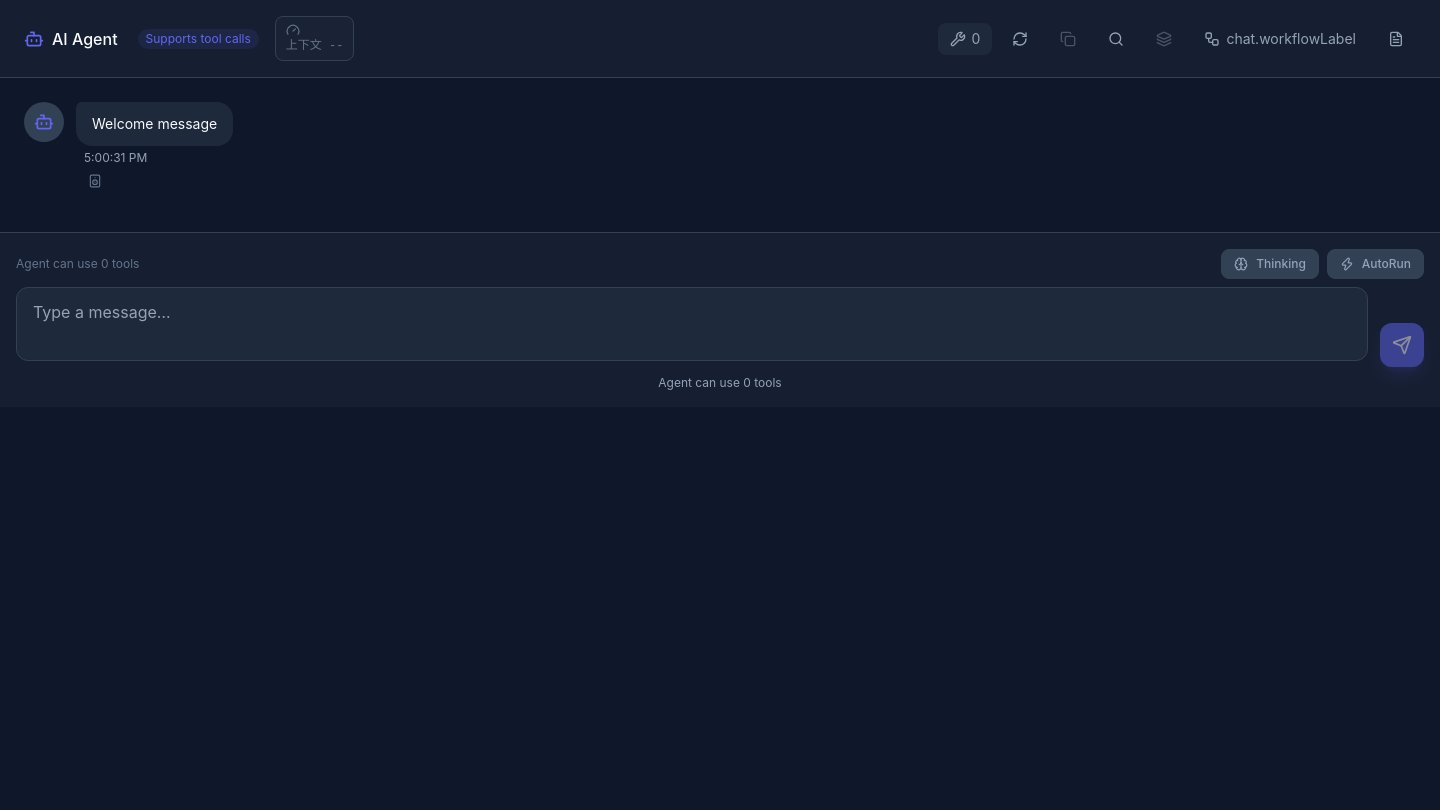
AgentChat › renders a tool_call event as a message bubble
Type "search" into the text box with placeholder "Type a message…". click: point(692, 324)
box: top-left (16, 287), bottom-right (1368, 361)
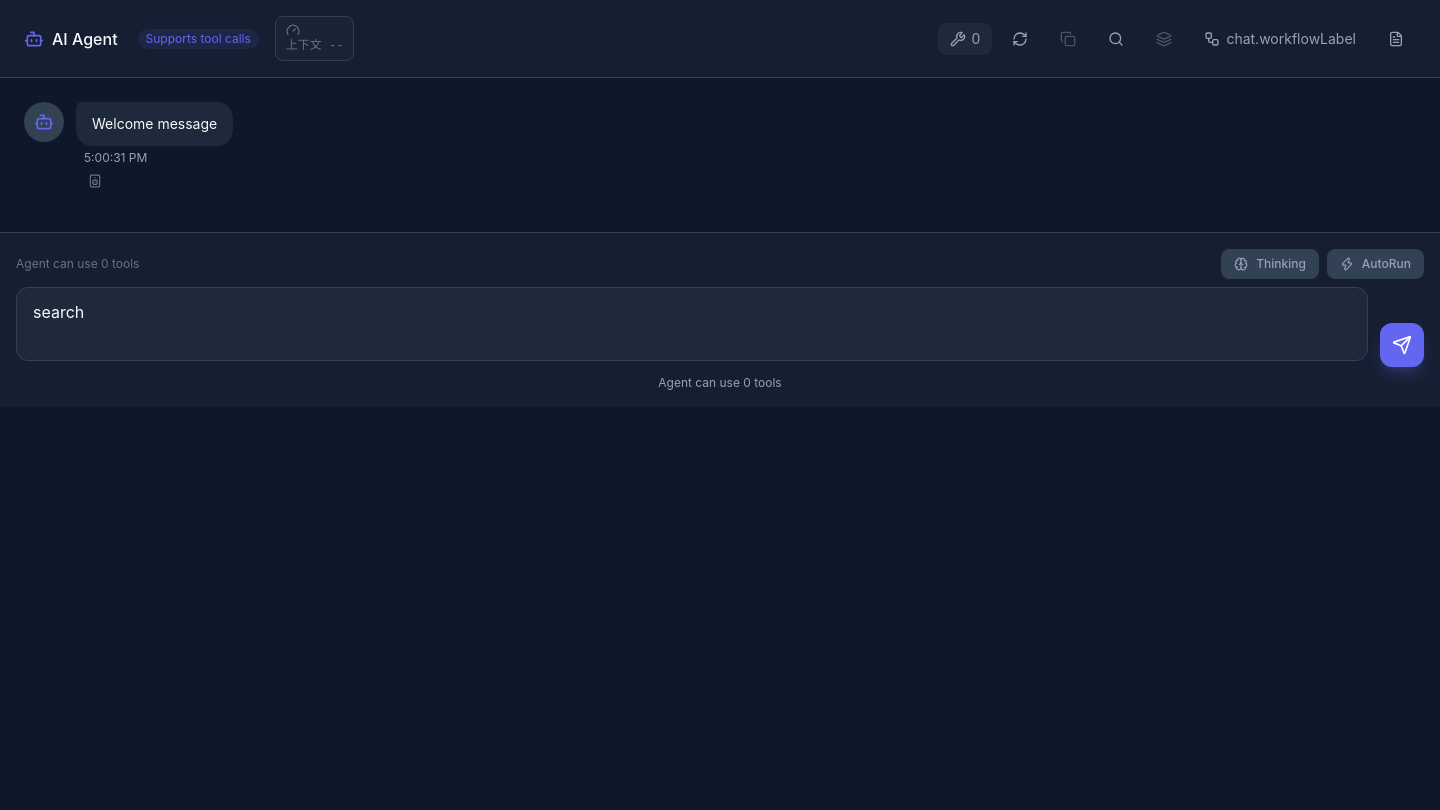
Click the button titled "Send". click: point(1402, 345)
box: top-left (1380, 323), bottom-right (1424, 367)
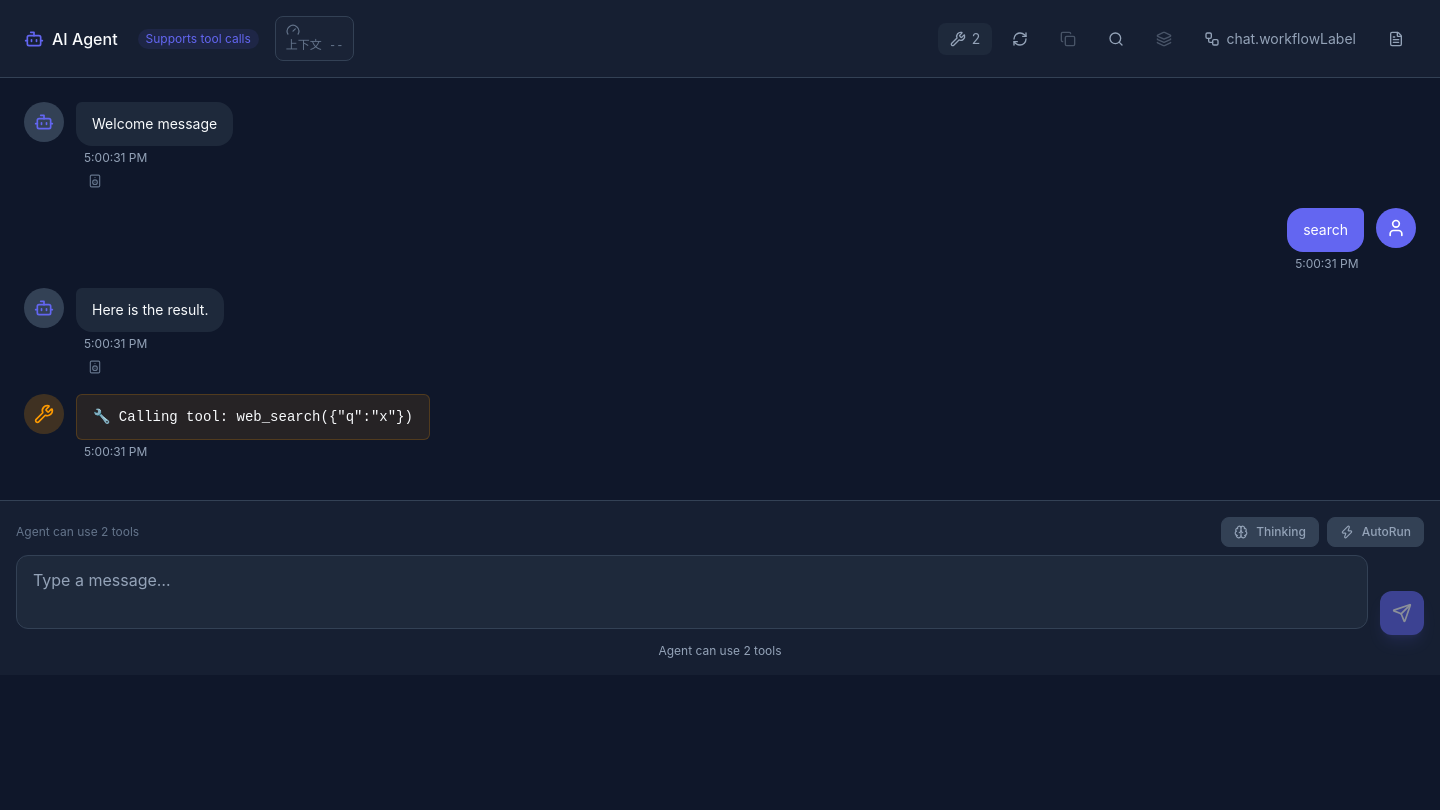
Now the text "🔧 Calling tool: web_search({\"q\":\"x\"})" is shown, box top-left (93, 407), bottom-right (413, 427)
Now the text "Here is the result." is shown, box top-left (92, 300), bottom-right (208, 320)
